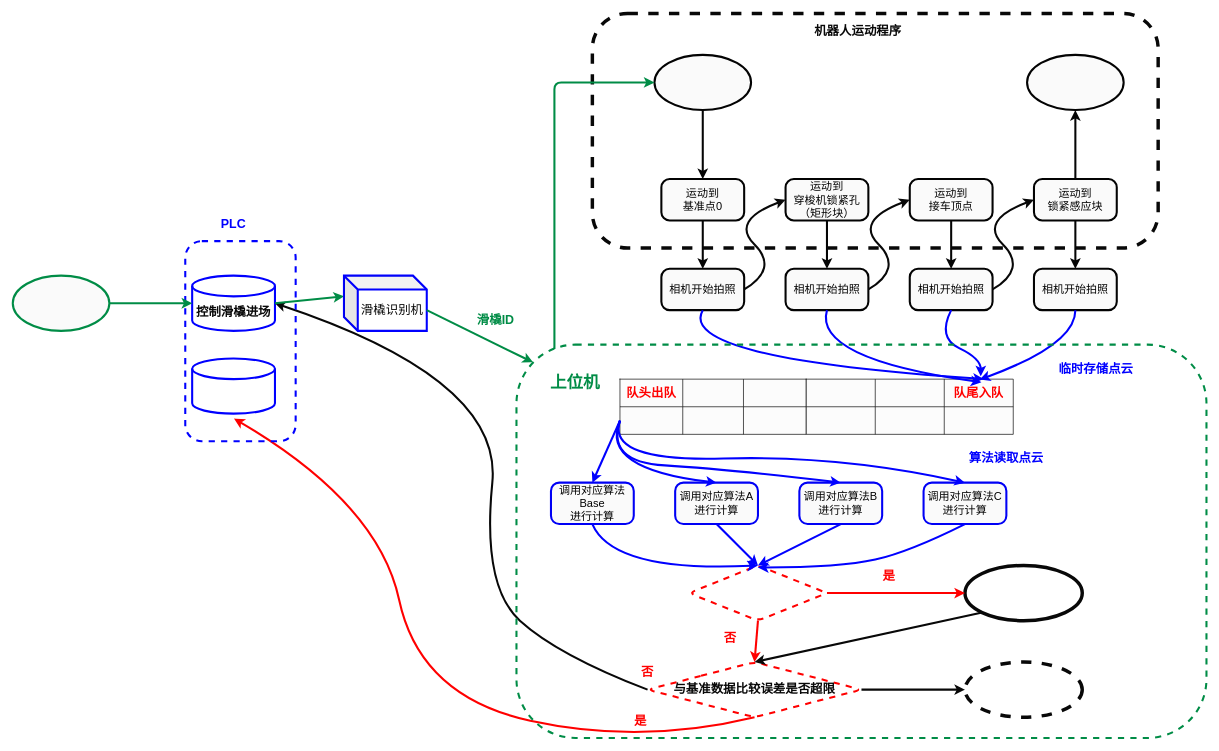
The diagram is 1219 pixels wide and 751 high, and some of its shapes have lost their labels. The shapes that lost their labels are listed below. From the top down, each one's box as (x1, y1, x2, y2) in pixels, then its label:
(653, 53, 752, 111): 机器人开始运动
(1026, 53, 1124, 111): 机器人回Home点
(11, 274, 110, 332): 开始
(191, 357, 276, 414): 报警
(688, 564, 828, 621): 是否是第一次检测
(963, 563, 1084, 622): 作为基准数据存储
(963, 660, 1084, 719): 记录结果并输出
